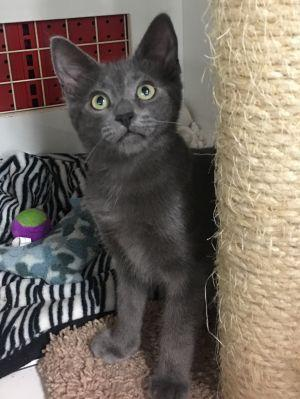rblue: (43, 5, 195, 179)
